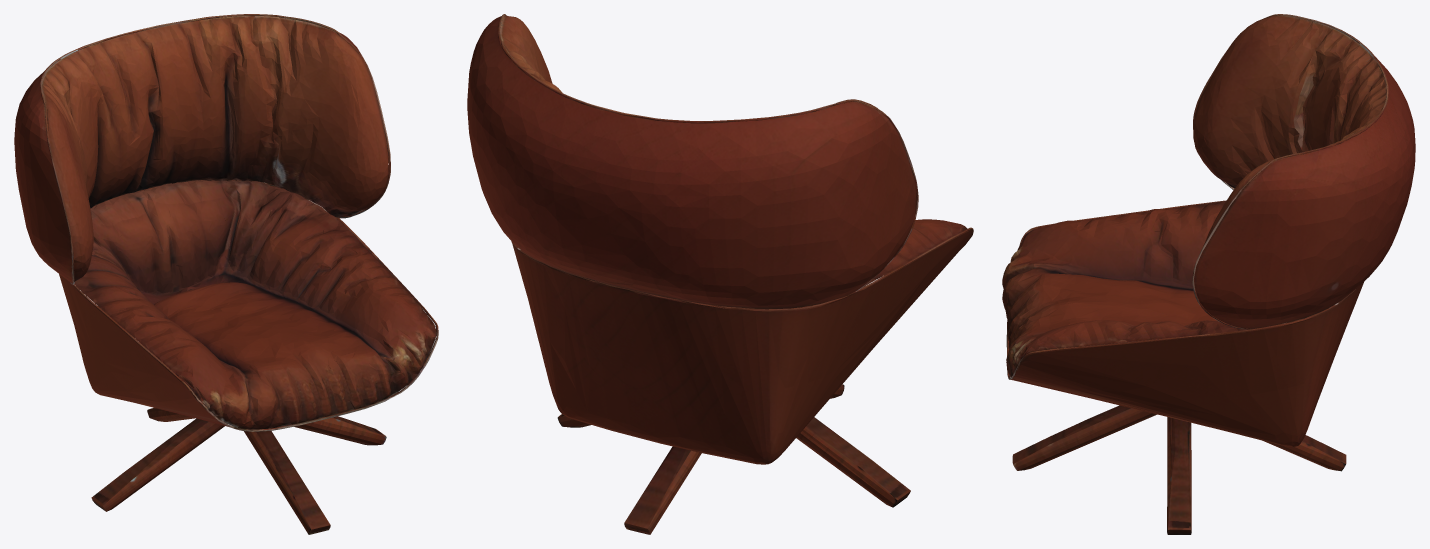
The model's file is edited_mesh.glb.
3 views of the same model, side by side, from view 1: azimuth 30°, elevation 25°; view 2: azimuth 150°, elevation 25°; view 3: azimuth 270°, elevation 25° (orthographic). The views are drawn at different scales.
Visible parts, largest first — view 1: solid_001_wire; view 2: solid_001_wire; view 3: solid_001_wire.
Boxes of the visible parts, x1,y1,x2,y2 form: solid_001_wire: (14,14,438,534); solid_001_wire: (467,14,973,534); solid_001_wire: (1002,14,1415,534).
Bounding box in the file's own units: 1.24 × 1.34 × 1.31.
1 material, 1 textured.
